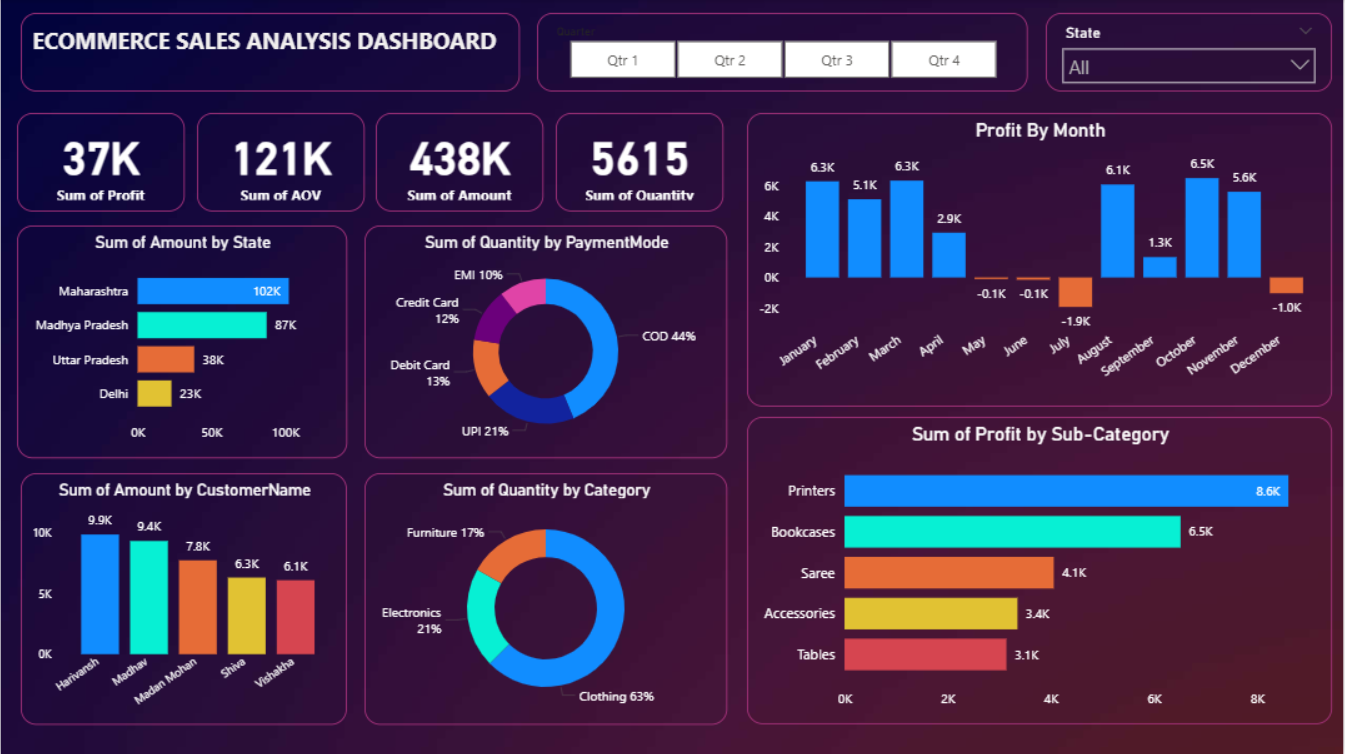

The page's visual inventory and layout, read from the dashboard file:
{"tool":"powerbi","page":{"name":"Page 1","canvas":[1280,720],"ordinal":0},"visuals":[{"type":"textbox","box":[19.1,13.1,475.6,75.1],"z":0},{"type":"columnChart","title":"Profit By Month","fields":{"Y":["Details.Profit"],"Category":["Orders.Order Date.Variation.Date Hierarchy.Month"]},"box":[711.7,108.5,557.9,280.1],"z":1000},{"type":"barChart","fields":{"Category":["Details.Sub-Category"],"Y":["Details.Profit"]},"box":[711.7,398.1,557.9,293.2],"z":2000},{"type":"donutChart","fields":{"Category":["Details.Category"],"Y":["Details.Quantity"]},"box":[346.9,451.8,345.7,239.6],"z":3000},{"type":"donutChart","fields":{"Y":["Details.Quantity"],"Category":["Details.PaymentMode"]},"box":[346.9,215.8,345.7,221.7],"z":4000},{"type":"card","fields":{"Values":["Details.Amount"]},"box":[357.6,108.5,160,94.2],"z":5000},{"type":"card","fields":{"Values":["Details.Quantity"]},"box":[529.3,108.5,159.7,94.2],"z":6000},{"type":"card","fields":{"Values":["Details.Profit"]},"box":[15.5,108.5,160,94.2],"z":7000},{"type":"card","fields":{"Values":["Details.AOV"]},"box":[187.2,108.5,160,94.2],"z":8000},{"type":"barChart","fields":{"Category":["Orders.State"],"Y":["Details.Amount"]},"box":[15.5,215.8,314.7,221.7],"z":9000},{"type":"columnChart","fields":{"Category":["Orders.CustomerName"],"Y":["Details.Amount"]},"box":[19.1,451.8,311.1,239.6],"z":10000},{"type":"slicer","fields":{"Values":["Orders.Order Date.Variation.Date Hierarchy.Quarter"]},"box":[511.4,13.1,468.5,75.1],"z":11000},{"type":"slicer","fields":{"Values":["Orders.State"]},"box":[996.6,13.1,273,75.1],"z":12000}]}

Visuals, with their boxes in screenshot pixels (x1, y1, x2, y2), scaled from the page's 1280x720 canvas onto the 1345x754 screenshot:
textbox: select_region(20, 14, 520, 92)
"Profit By Month" columnChart: select_region(748, 114, 1334, 407)
barChart - Details.Sub-Category x Details.Profit: select_region(748, 417, 1334, 724)
donutChart - Details.Category x Details.Quantity: select_region(365, 473, 728, 724)
donutChart - Details.Quantity x Details.PaymentMode: select_region(365, 226, 728, 458)
card - Details.Amount: select_region(376, 114, 544, 212)
card - Details.Quantity: select_region(556, 114, 724, 212)
card - Details.Profit: select_region(16, 114, 184, 212)
card - Details.AOV: select_region(197, 114, 365, 212)
barChart - Orders.State x Details.Amount: select_region(16, 226, 347, 458)
columnChart - Orders.CustomerName x Details.Amount: select_region(20, 473, 347, 724)
slicer - Orders.Order Date.Variation.Date Hierarchy.Quarter: select_region(537, 14, 1030, 92)
slicer - Orders.State: select_region(1047, 14, 1334, 92)
